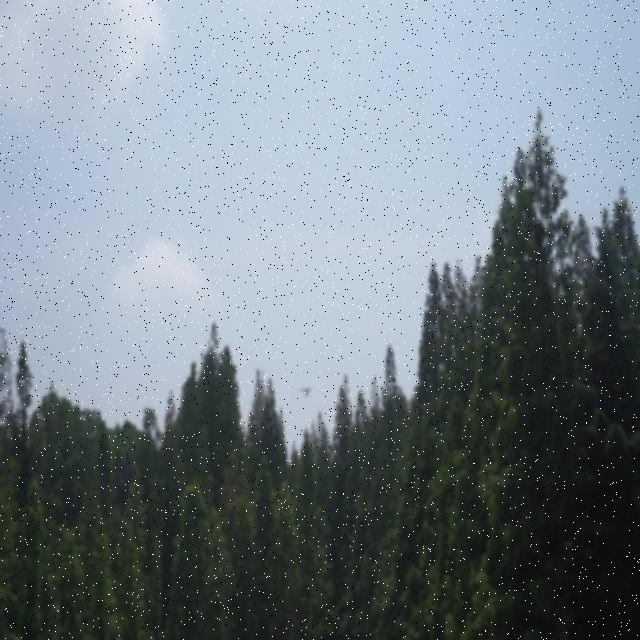UAV: (298, 386, 312, 398)
